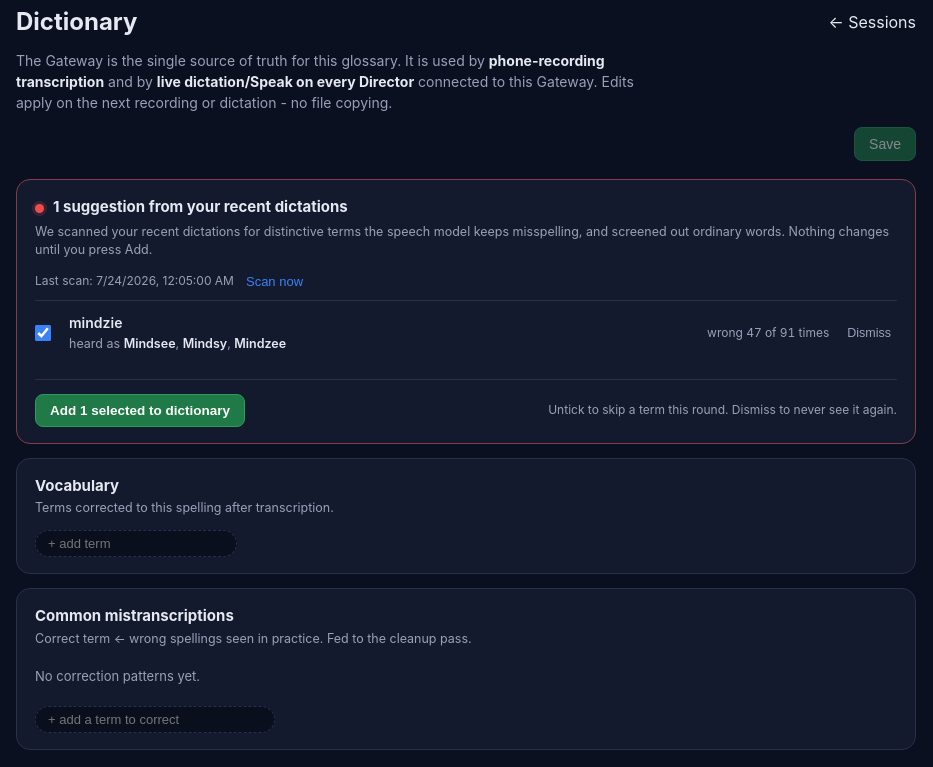
Scenario: DictionaryView suggestions panel › dismissing a suggestion removes it and lists it under dismissed
The image size is (933, 767).
Expected: the text "mindzie" is shown, left=69, top=314, right=122, bottom=331
Click the button "Dismiss" at (869, 333), box left=841, top=322, right=897, bottom=344
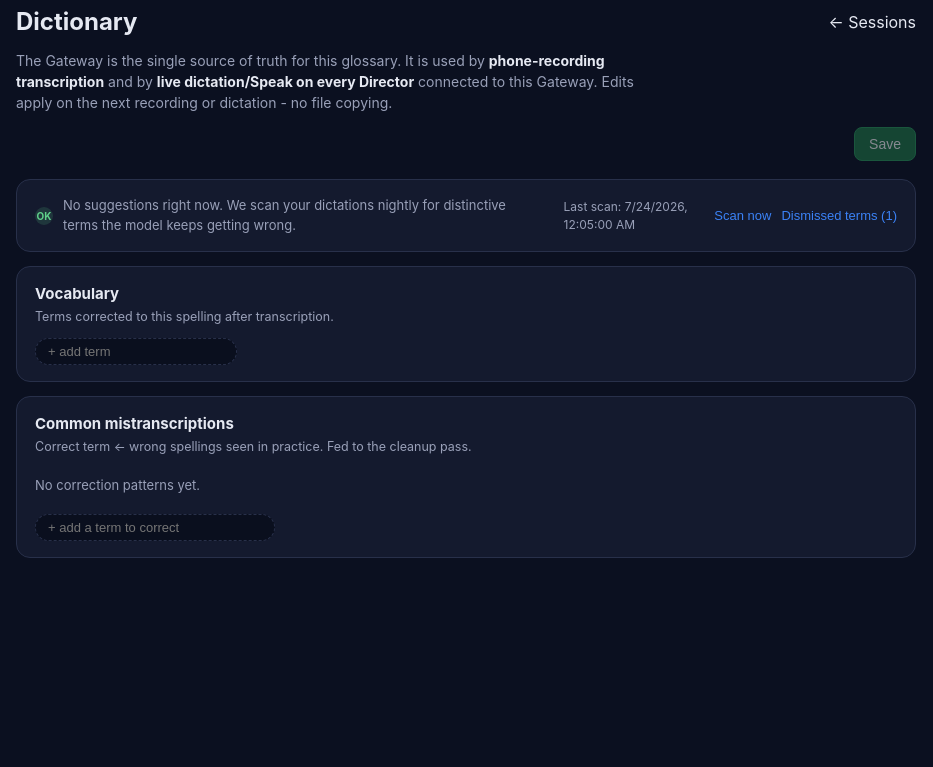
Now the text "No suggestions right now" is shown, box left=63, top=197, right=506, bottom=232
Now the button "Dismissed terms (1)" is shown, box left=781, top=208, right=897, bottom=223
